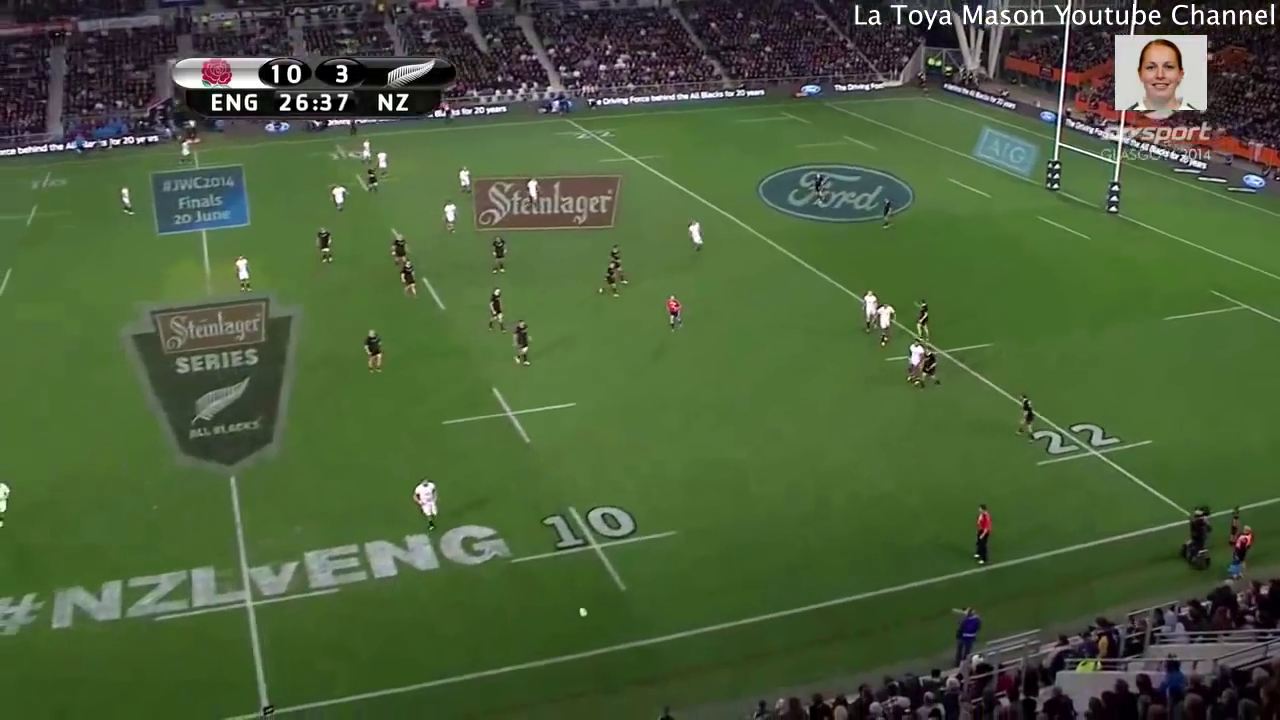10_metre: (513, 503, 687, 608), (436, 376, 592, 459), (1, 196, 87, 236), (1, 165, 80, 196), (326, 172, 413, 196), (307, 143, 385, 165)
ball: (570, 600, 594, 625)
player: (961, 495, 999, 578), (891, 331, 929, 394), (408, 472, 444, 534), (356, 319, 392, 379), (1007, 388, 1039, 447), (508, 313, 539, 373), (903, 291, 935, 347), (870, 292, 898, 355), (1, 470, 25, 541), (851, 279, 880, 335), (484, 228, 515, 278), (601, 239, 632, 289), (396, 255, 424, 307), (594, 258, 625, 304), (313, 220, 340, 272), (661, 290, 689, 337), (484, 282, 508, 336), (918, 342, 942, 395), (325, 178, 354, 221), (519, 172, 547, 215), (384, 229, 414, 269), (358, 162, 386, 203), (231, 252, 257, 295), (685, 216, 712, 256), (113, 181, 139, 222), (874, 192, 898, 236), (807, 168, 831, 206), (440, 196, 461, 238), (372, 147, 391, 186), (174, 138, 195, 169), (455, 164, 475, 196), (358, 133, 376, 165)
post: (1038, 118, 1132, 227)
